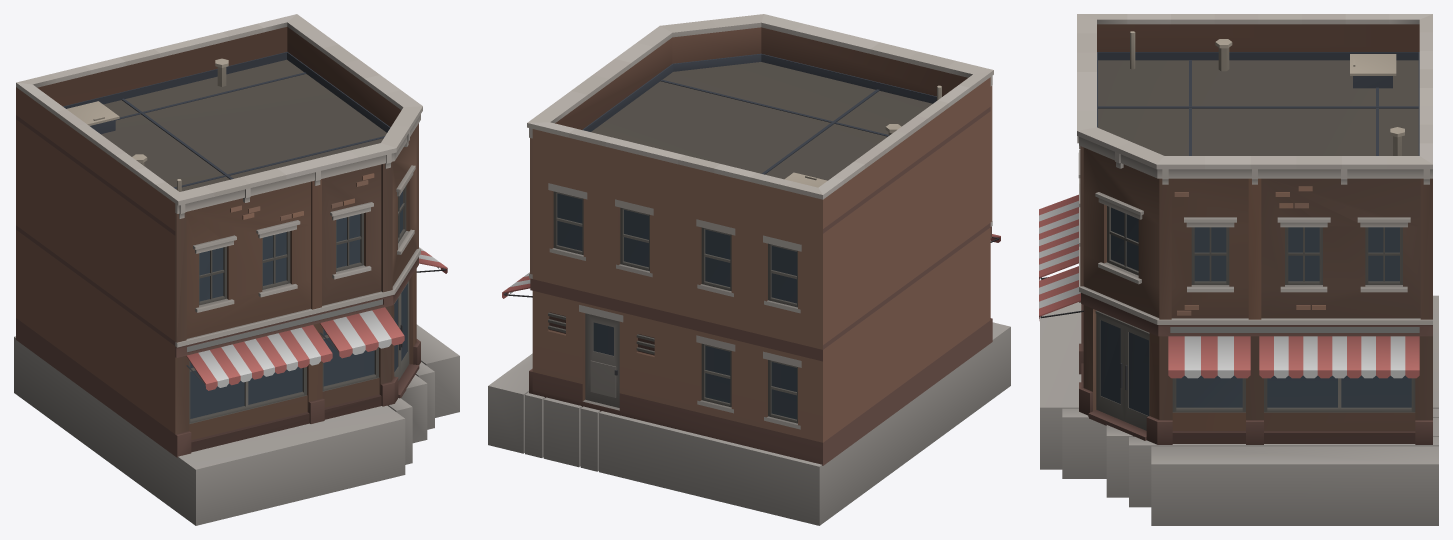
File: corner.glb
The picture shows the model from 3 angles, left to right: view 1: azimuth 30°, elevation 25°; view 2: azimuth 150°, elevation 25°; view 3: azimuth 270°, elevation 25°; orthographic projection. The views are drawn at different scales.
Visible parts, largest first — view 1: corner; view 2: corner; view 3: corner.
Part boxes in pixels (x1,y1,x2,y2): corner: (14,14,459,525); corner: (488,14,1010,525); corner: (1039,14,1438,525).
Size of the model in its own units: 8.98 by 8.5 by 8.98.
